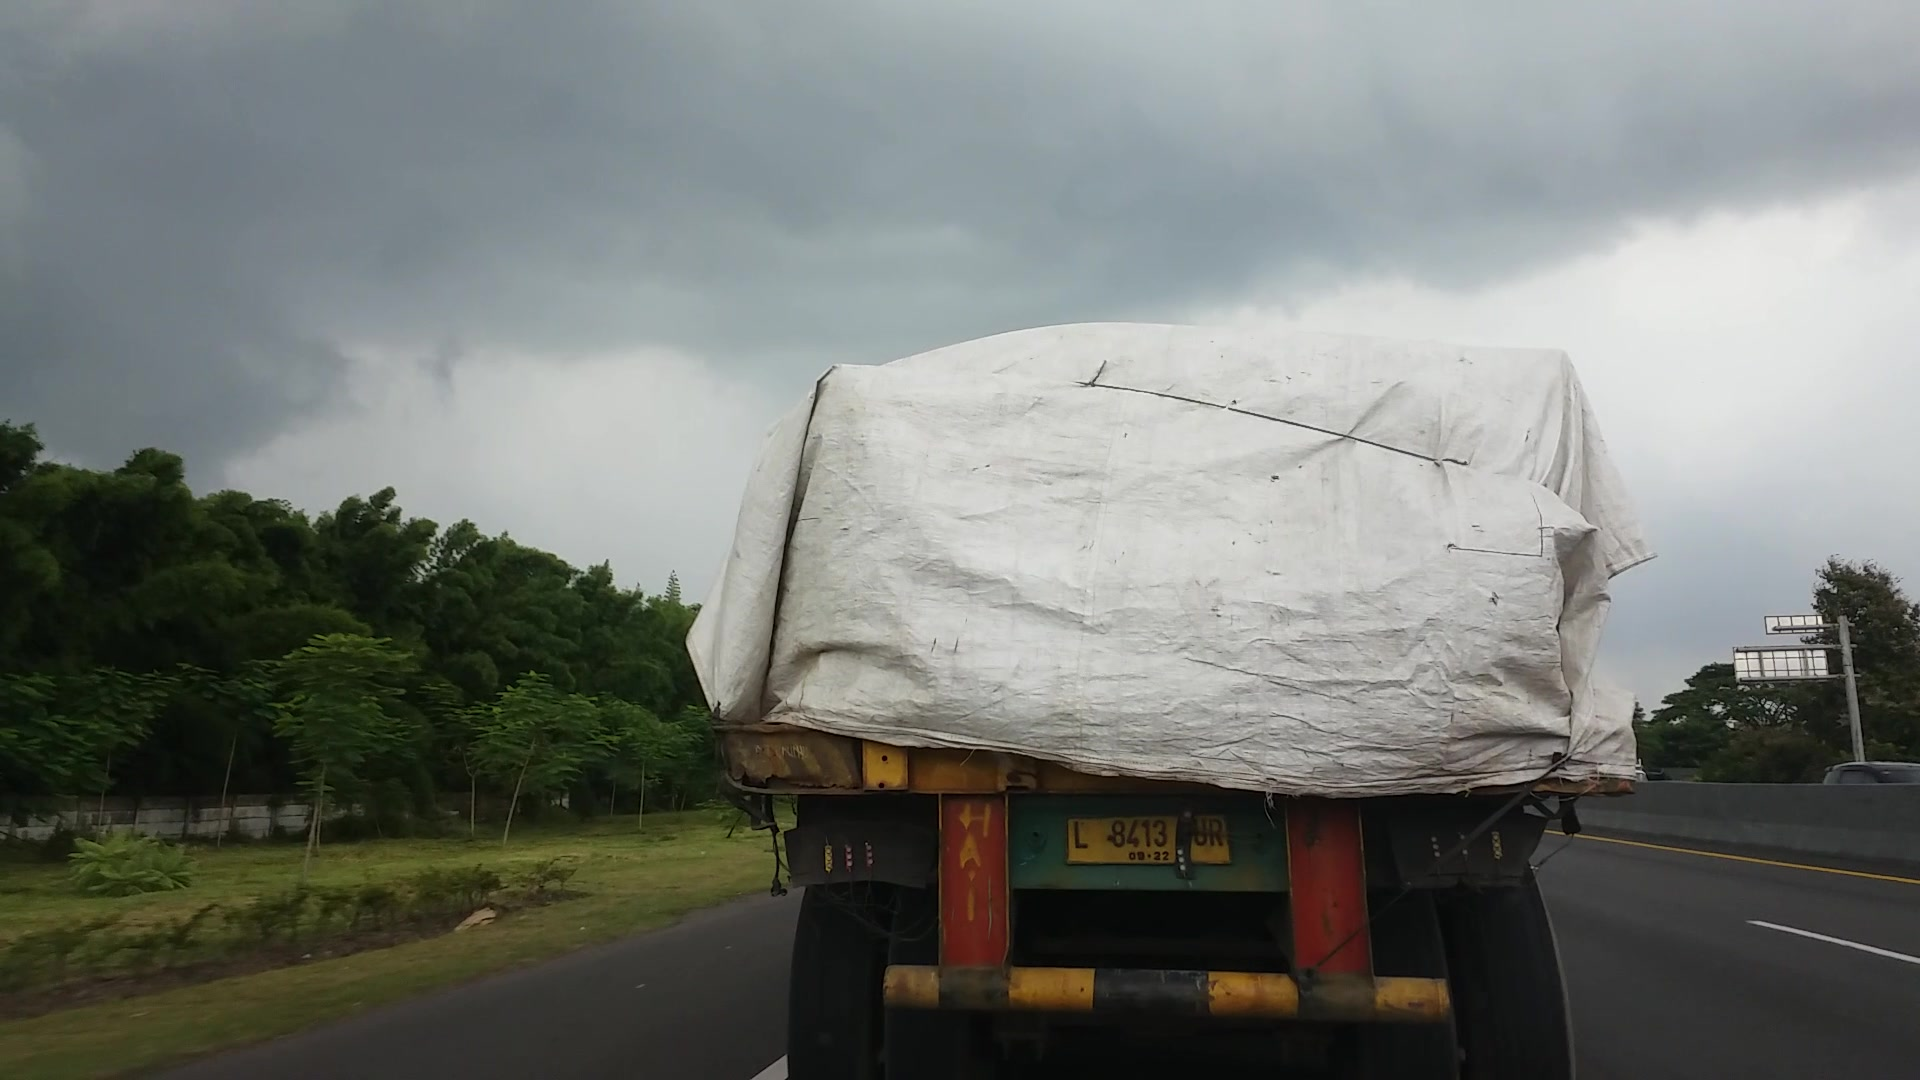plate_positive: (1065, 815, 1230, 862)
